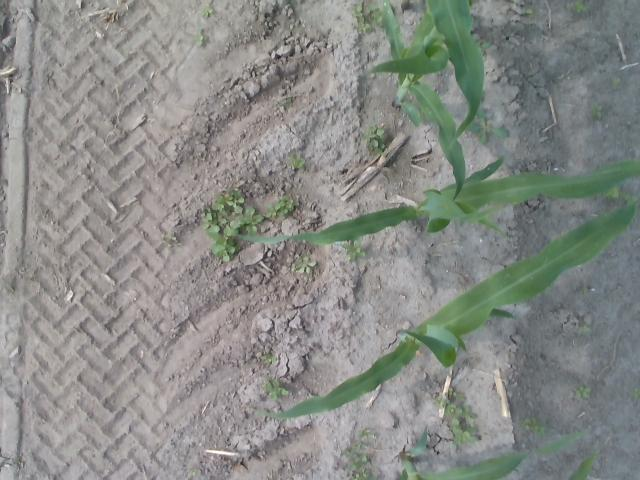Maize: (248, 201, 638, 418), (237, 156, 640, 246), (366, 0, 466, 202), (392, 425, 596, 480), (425, 0, 485, 152)
Weeds: (476, 109, 509, 142), (228, 206, 264, 234), (208, 231, 237, 262), (450, 417, 480, 446), (340, 444, 368, 470), (216, 190, 246, 210), (200, 206, 220, 232), (266, 378, 288, 400), (342, 242, 366, 260), (363, 126, 388, 142), (296, 256, 316, 275), (524, 418, 544, 434), (456, 406, 476, 420), (281, 196, 298, 212), (359, 428, 376, 442), (356, 3, 368, 22), (288, 156, 306, 168), (265, 204, 280, 218), (590, 103, 604, 117), (369, 8, 381, 24), (368, 139, 385, 150), (433, 397, 450, 407), (196, 31, 207, 46), (362, 469, 376, 480), (261, 353, 275, 364), (572, 3, 588, 12), (359, 22, 371, 34), (202, 6, 214, 18), (574, 387, 590, 396), (609, 187, 621, 198), (446, 402, 456, 414), (625, 194, 637, 203), (166, 232, 176, 242), (578, 326, 590, 334), (612, 74, 620, 86), (351, 471, 361, 480), (522, 8, 533, 16), (455, 393, 464, 402), (188, 468, 196, 478), (174, 242, 182, 251), (448, 388, 456, 396), (284, 98, 292, 106), (634, 387, 640, 397)
